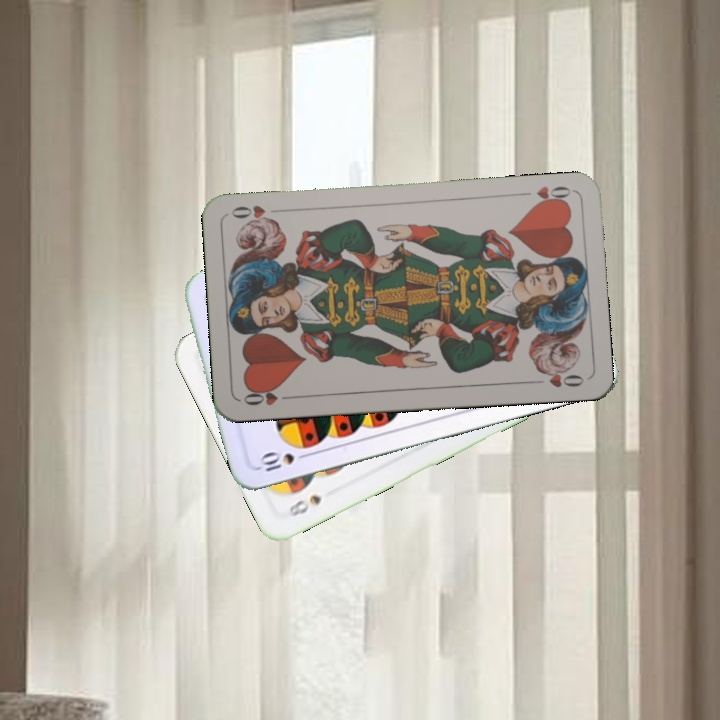HO: (516, 182, 573, 209), (239, 384, 297, 408)
S10: (255, 448, 313, 474)
S8: (283, 490, 325, 520)
